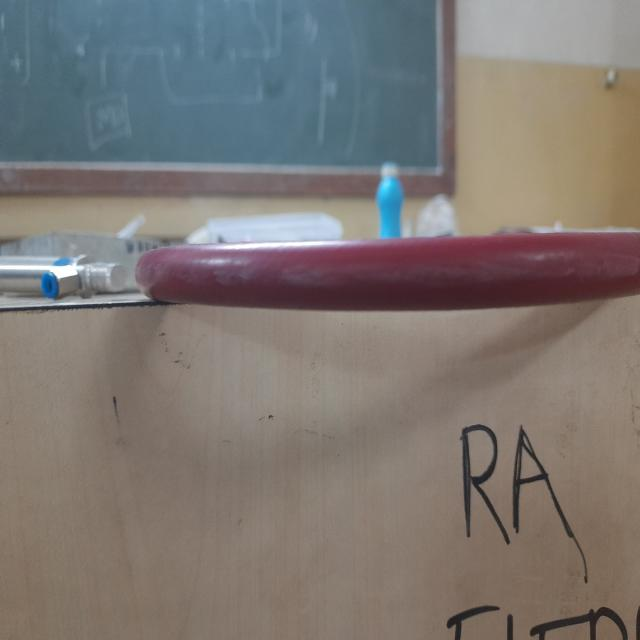daire: (148, 243, 640, 311)
